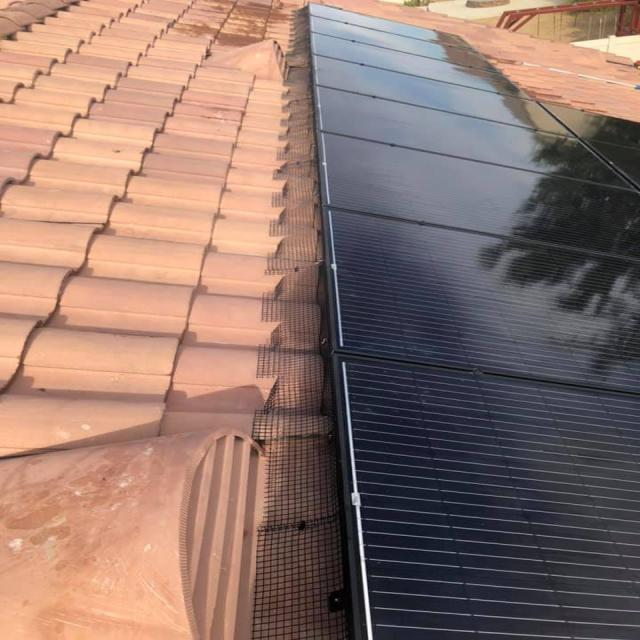clean-solar-panel: (307, 5, 638, 640)
